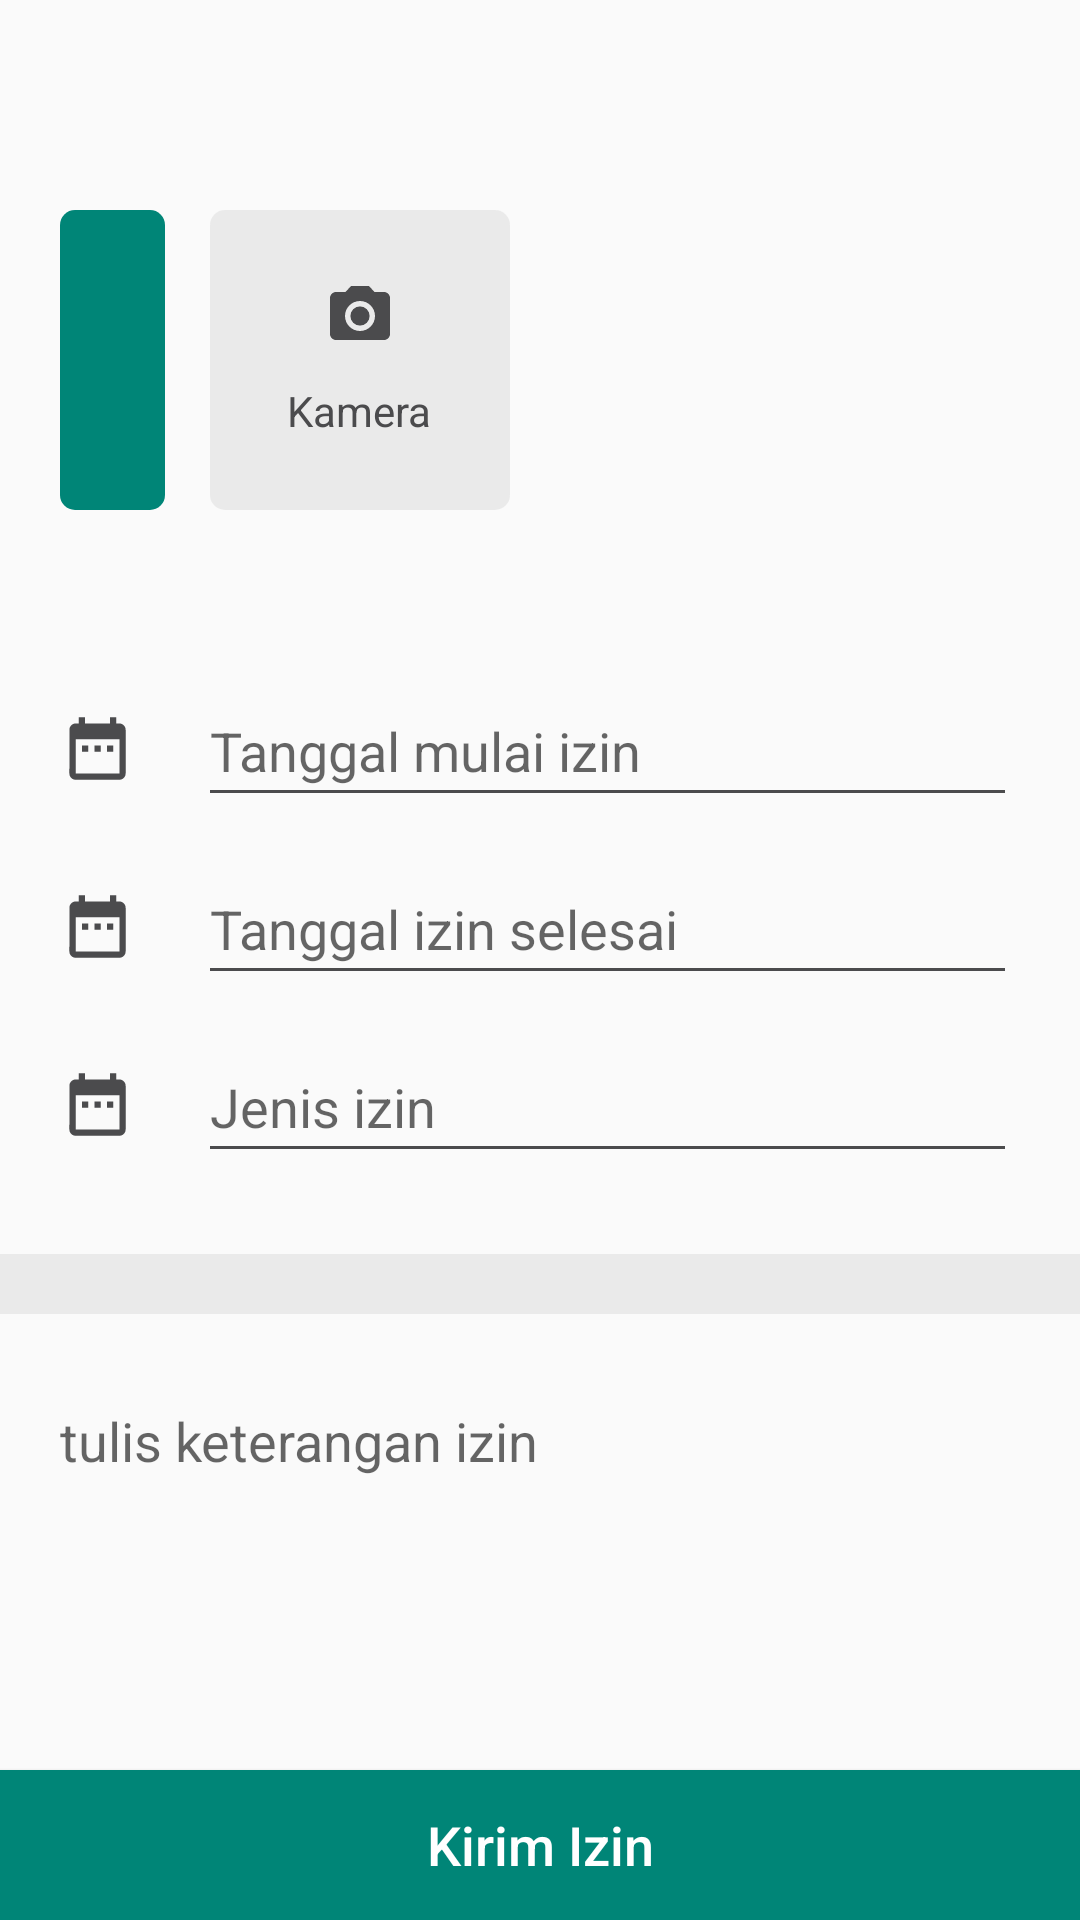

Named icons in this screenshot (1080 x 1920) and their bounding boxes, [x1=x1, y1=y1, x2=x2, y2=y2]:
camera: [x1=330, y1=286, x2=390, y2=340]
date: [x1=69, y1=717, x2=126, y2=780], [x1=69, y1=895, x2=126, y2=958], [x1=69, y1=1073, x2=126, y2=1136]
